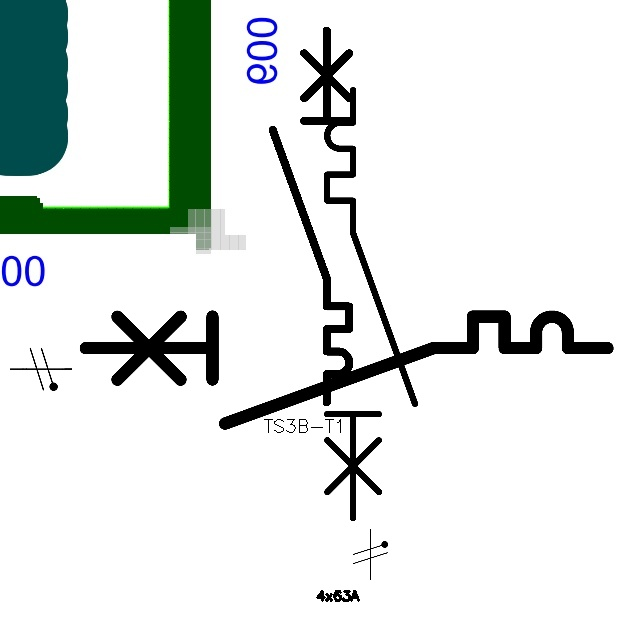interruptor_termomagnetico: (72, 303, 621, 437), (316, 79, 426, 529), (263, 21, 359, 412)
